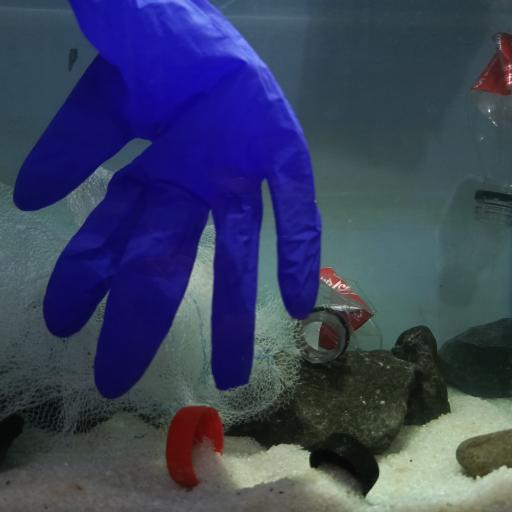bottle_cap: (166, 406, 224, 489), (310, 430, 380, 496)
glove: (15, 1, 324, 397)
net: (0, 164, 303, 457)
plastic_bottle: (465, 0, 512, 230), (296, 266, 383, 365)
